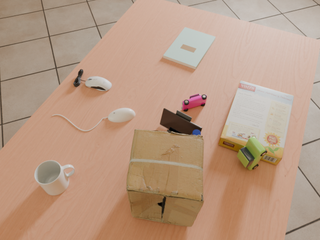book: (163, 27, 215, 69)
box: (127, 129, 204, 227), (218, 81, 294, 165)
cup: (35, 161, 75, 195)
mouse: (108, 108, 135, 122), (85, 77, 112, 91)
phone: (160, 108, 202, 135)
toy_car: (237, 136, 267, 170), (181, 94, 207, 111)
